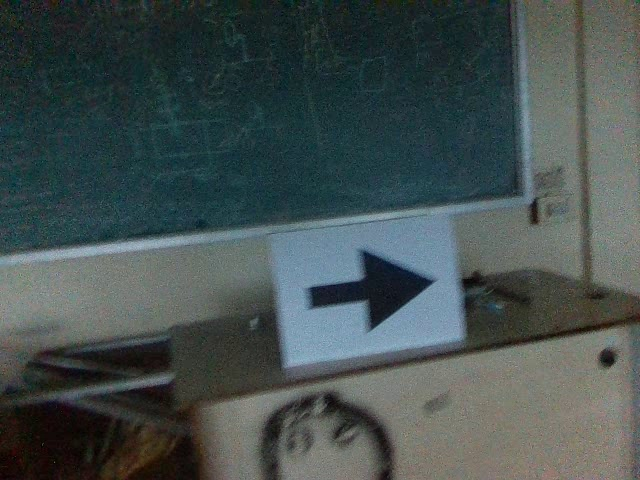Right: (293, 246, 438, 337)
